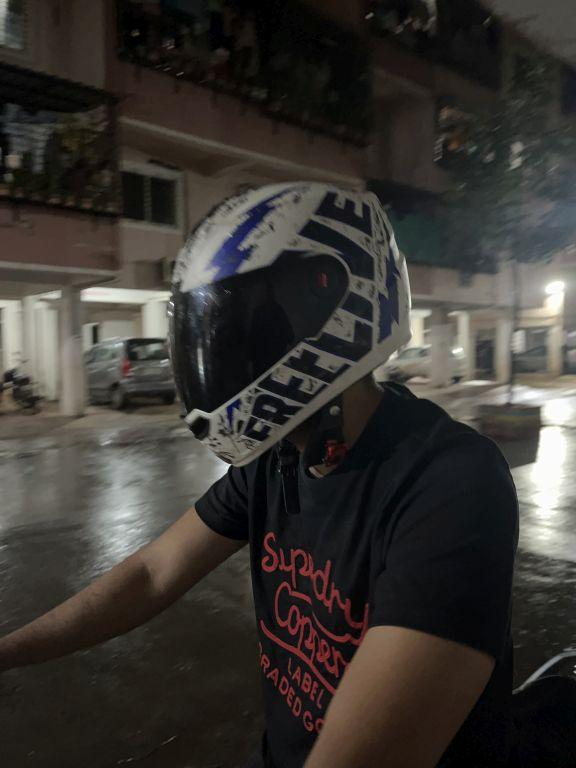helmet: (155, 162, 424, 483)
